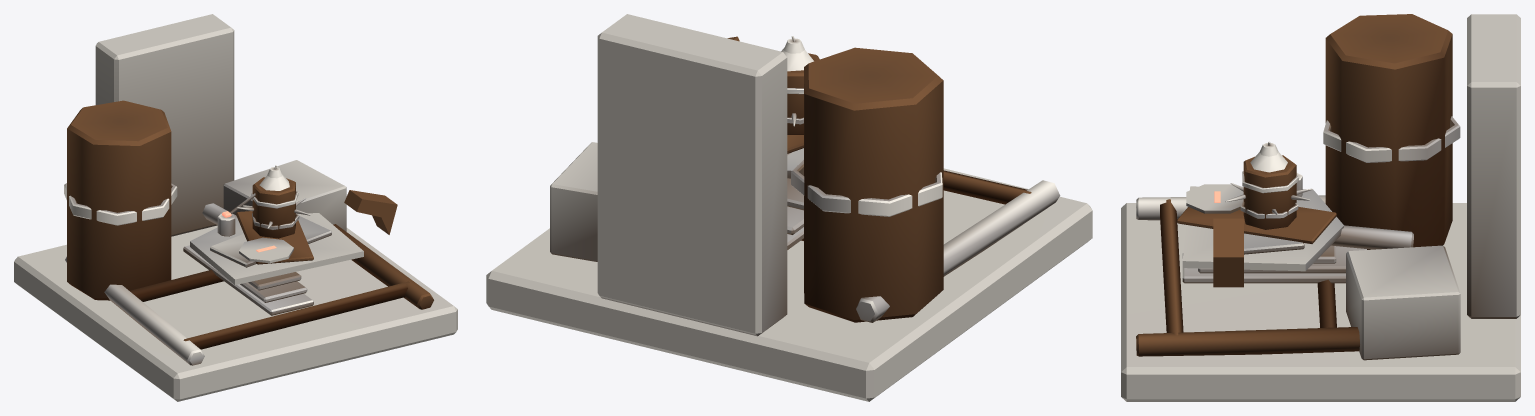
Rendered from R4X_ExplosiveTrapDeployer_LOD1.fbx.
3 renders of one model, left to right at view 1: azimuth 30°, elevation 25°; view 2: azimuth 150°, elevation 25°; view 3: azimuth 270°, elevation 25°, orthographic. The views are drawn at different scales.
Parts seen in each view (by area): view 1: R4X_ExplosiveTrapDeployer_LOD1; view 2: R4X_ExplosiveTrapDeployer_LOD1; view 3: R4X_ExplosiveTrapDeployer_LOD1.
Part boxes in pixels (<box>): R4X_ExplosiveTrapDeployer_LOD1: <box>14,14,457,401</box>; R4X_ExplosiveTrapDeployer_LOD1: <box>486,14,1092,401</box>; R4X_ExplosiveTrapDeployer_LOD1: <box>1121,14,1520,401</box>.
Bounding box in the file's own units: 0.52 × 0.39 × 0.52.
